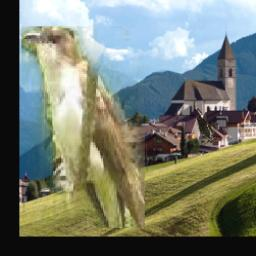Cuckoo: (22, 27, 146, 229)
Woodpecker: (197, 115, 220, 145)
